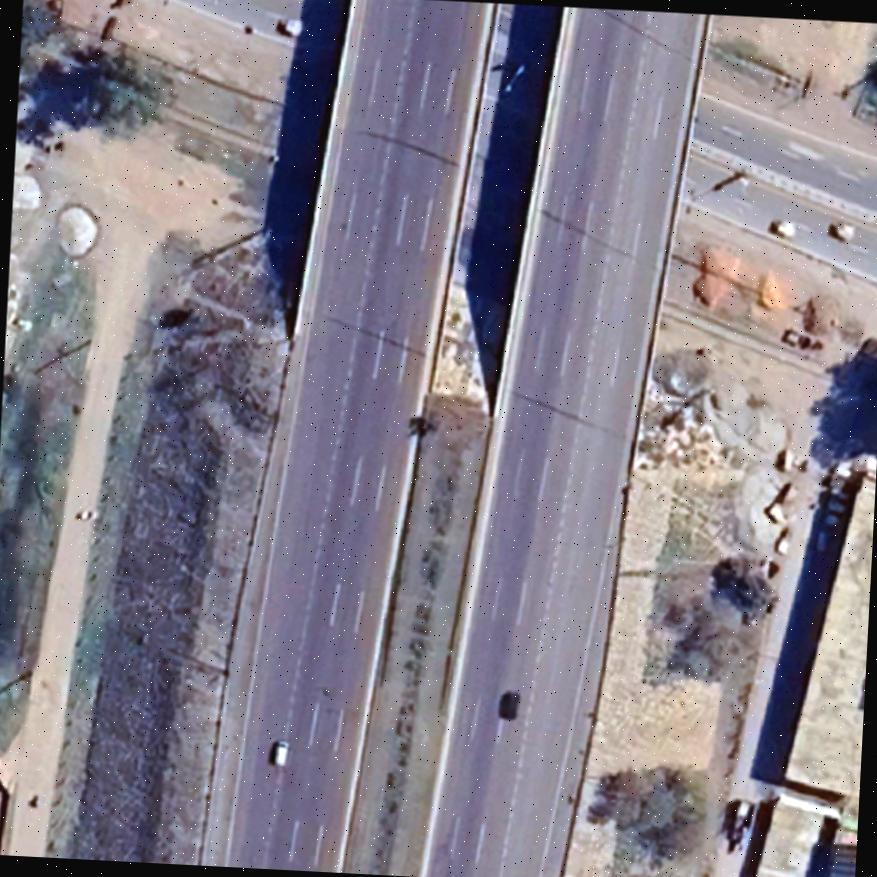Solarpanel: (809, 835, 856, 877)
